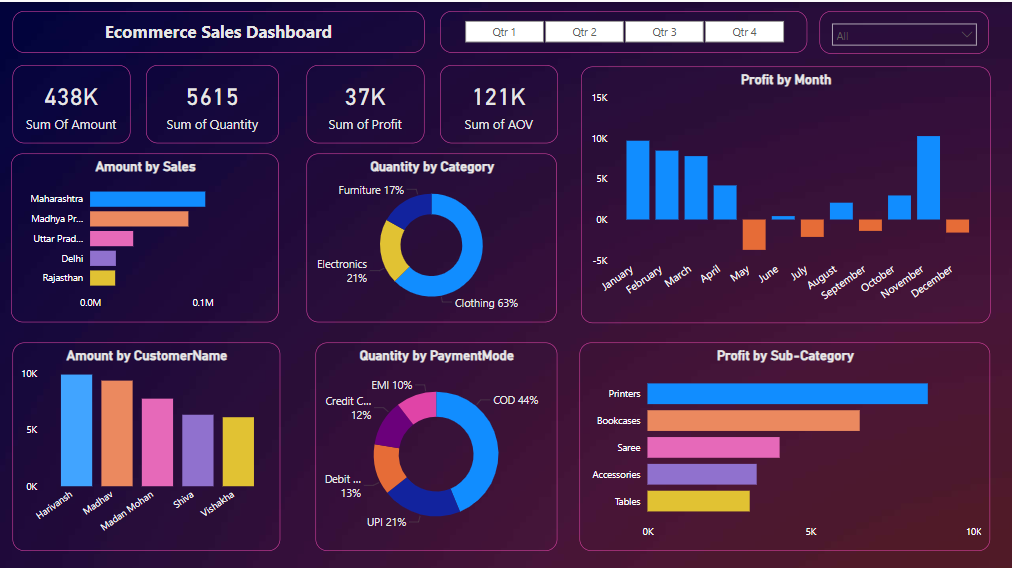

The dashboard page shown, as its layout file describes it:
{"tool":"powerbi","page":{"name":"Page 1","canvas":[1280,720],"ordinal":0},"visuals":[{"type":"textbox","box":[17.6,11.8,519.6,52.9],"z":0},{"type":"columnChart","title":"Profit by Month","fields":{"Category":["Orders.Order Date.Variation.Date Hierarchy.Month"],"Y":["Sum(Details.Profit)"]},"box":[733.3,80.4,515.7,323.5],"z":1000},{"type":"barChart","title":"Profit by Sub-Category","fields":{"Category":["Details.Sub-Category"],"Y":["Sum(Details.Profit)"]},"box":[731.4,429.4,517.6,262.7],"z":2000},{"type":"donutChart","title":"Quantity by Category","fields":{"Category":["Details.Category"],"Y":["Sum(Details.Quantity)"]},"box":[387.5,190.6,315.6,212.5],"z":3000},{"type":"donutChart","title":"Quantity by PaymentMode","fields":{"Category":["Details.PaymentMode"],"Y":["Sum(Details.Quantity)"]},"box":[398.4,429.7,304.7,262.5],"z":4000},{"type":"card","fields":{"Values":["Sum(Details.Amount)"]},"box":[17.2,79.7,148.4,98.4],"z":5000},{"type":"card","fields":{"Values":["Sum(Details.Quantity)"]},"box":[185.9,79.7,167.2,98.4],"z":6000},{"type":"card","fields":{"Values":["Sum(Details.Profit)"]},"box":[387.5,79.7,148.4,98.4],"z":7000},{"type":"card","fields":{"Values":["Sum(Details.AOV)"]},"box":[554.7,79.7,148.4,98.4],"z":8000},{"type":"barChart","title":"Amount by Sales","fields":{"Category":["Orders.State"],"Y":["Sum(Details.Amount)"]},"box":[15.6,190.6,337.5,212.5],"z":9000},{"type":"columnChart","title":"Amount by CustomerName","fields":{"Category":["Orders.CustomerName"],"Y":["Sum(Details.Amount)"]},"box":[17.2,429.7,337.5,262.5],"z":10000},{"type":"slicer","fields":{"Values":["Orders.Order Date.Variation.Date Hierarchy.Quarter"]},"box":[554.9,11.8,462.7,52.9],"z":11000},{"type":"slicer","fields":{"Values":["Orders.State"]},"box":[1034.6,11.5,213.5,53.8],"z":12000}]}

Visuals, with their boxes in screenshot pixels (x1, y1, x2, y2), scaled from the page's 1280x720 canvas onto the 1012x568 screenshot:
textbox: [left=14, top=9, right=425, bottom=51]
"Profit by Month" columnChart: [left=580, top=63, right=987, bottom=319]
"Profit by Sub-Category" barChart: [left=578, top=339, right=987, bottom=546]
"Quantity by Category" donutChart: [left=306, top=150, right=556, bottom=318]
"Quantity by PaymentMode" donutChart: [left=315, top=339, right=556, bottom=546]
card - Sum(Details.Amount): [left=14, top=63, right=131, bottom=141]
card - Sum(Details.Quantity): [left=147, top=63, right=279, bottom=141]
card - Sum(Details.Profit): [left=306, top=63, right=424, bottom=141]
card - Sum(Details.AOV): [left=439, top=63, right=556, bottom=141]
"Amount by Sales" barChart: [left=12, top=150, right=279, bottom=318]
"Amount by CustomerName" columnChart: [left=14, top=339, right=280, bottom=546]
slicer - Orders.Order Date.Variation.Date Hierarchy.Quarter: [left=439, top=9, right=805, bottom=51]
slicer - Orders.State: [left=818, top=9, right=987, bottom=52]
